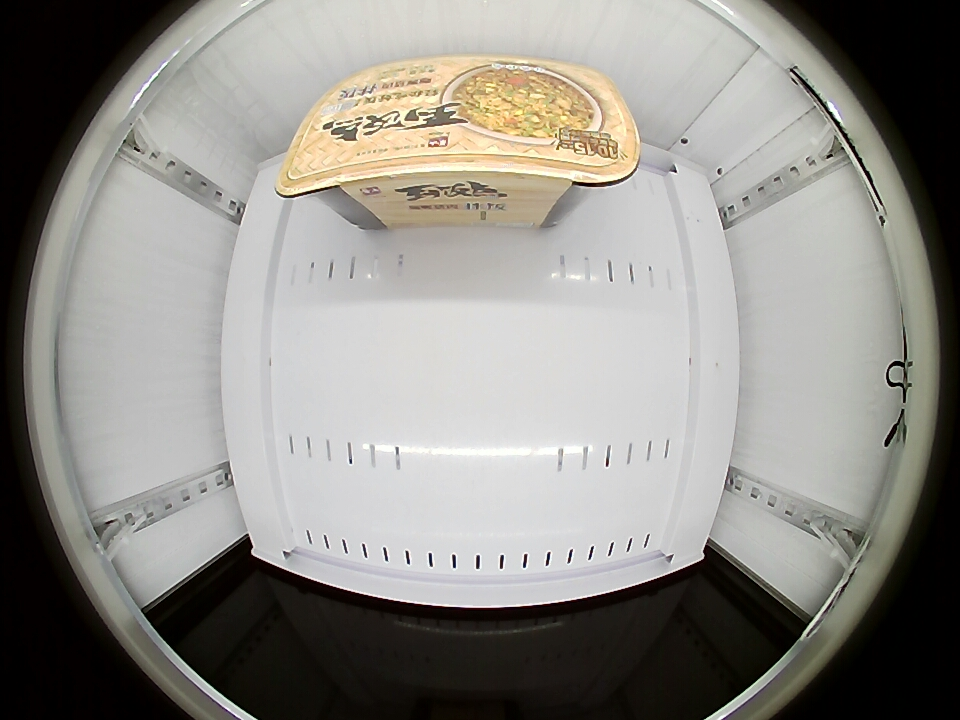daofandian3: (277, 55, 640, 227)
